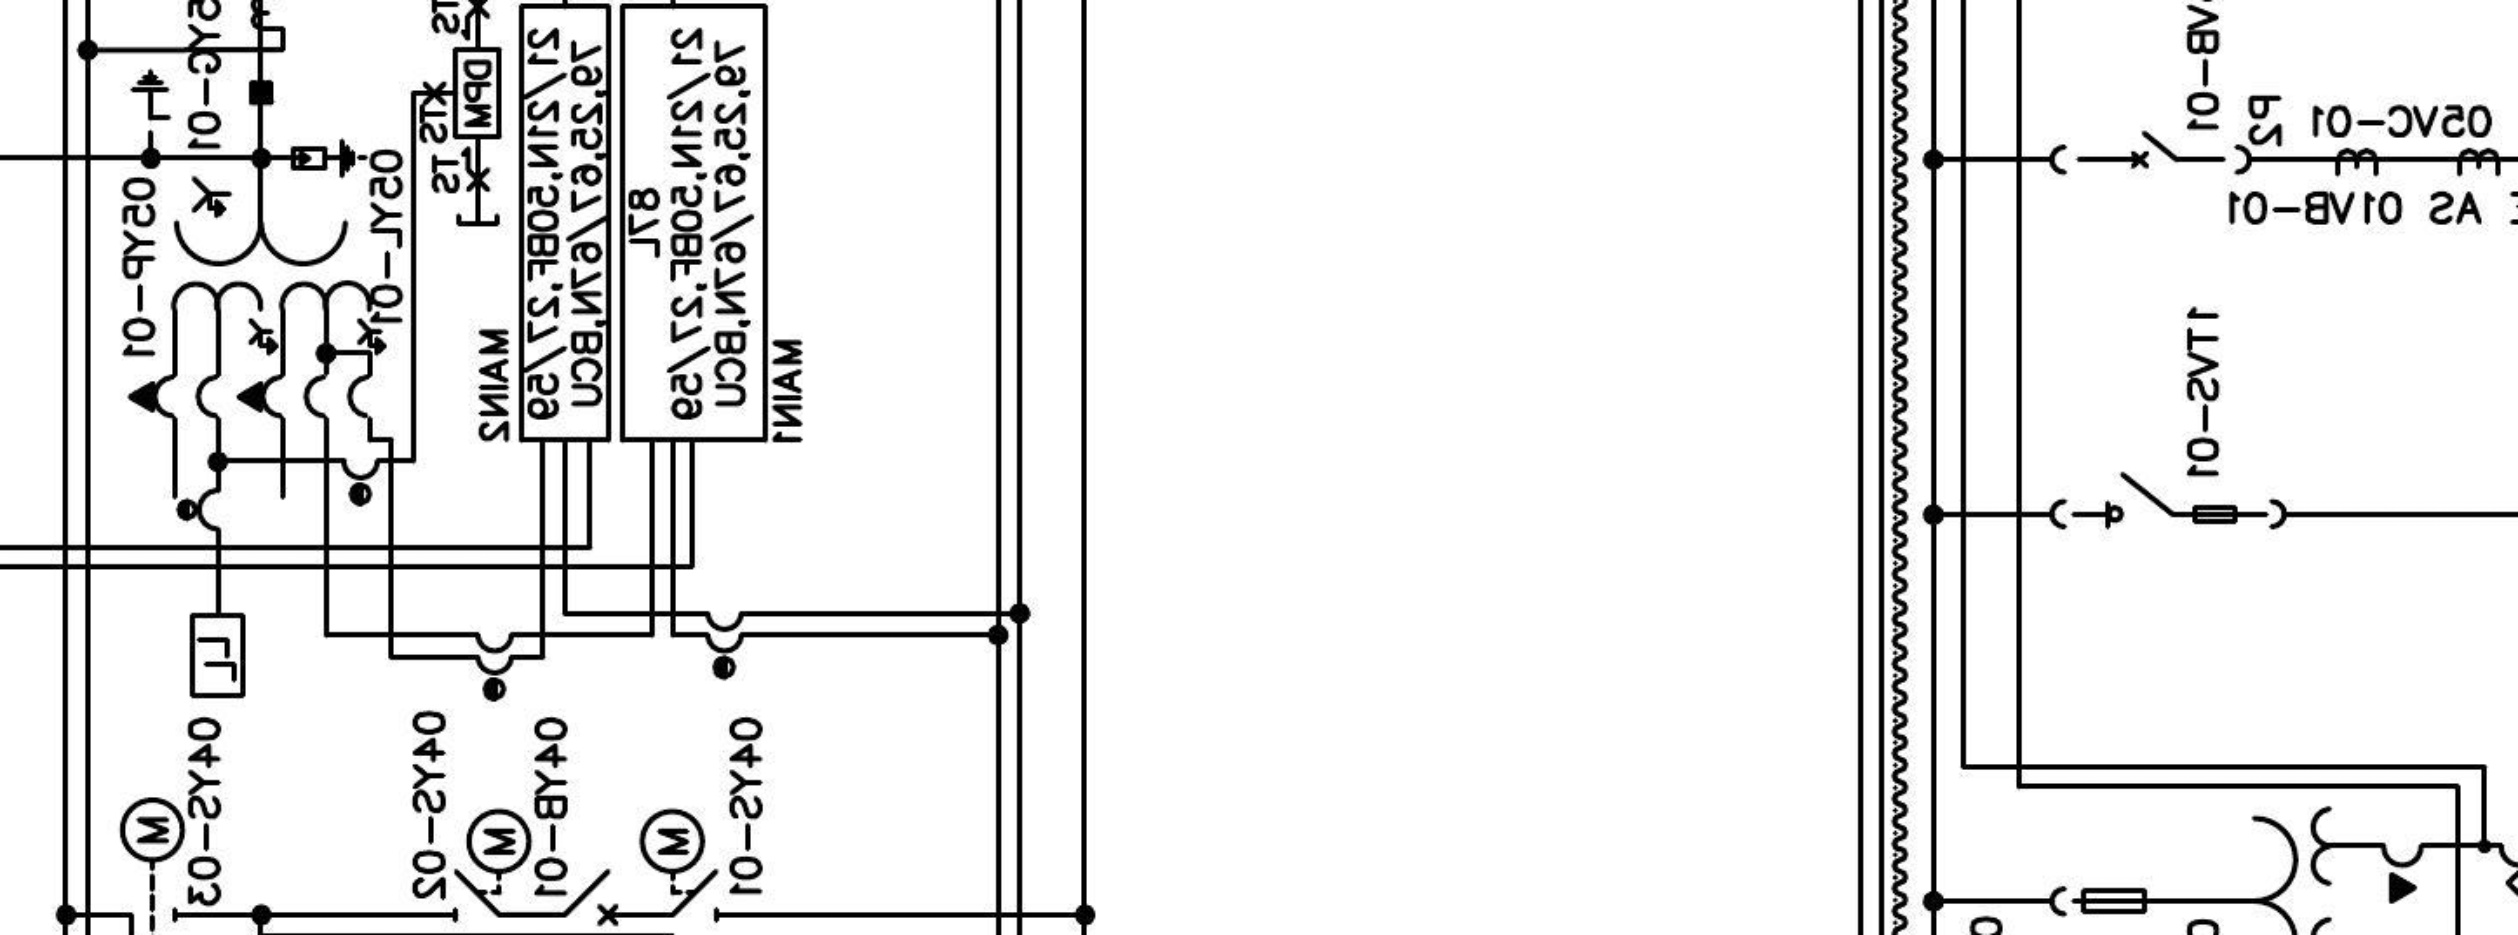115_1way_ds_w_motor: (639, 806, 721, 924), (452, 806, 533, 923)
115_breaker: (564, 868, 620, 927)
115_gs: (128, 66, 173, 137)
115_la: (290, 136, 370, 179)
115_vt_3p: (126, 174, 388, 420)
22_breaker: (2048, 130, 2253, 176)
22_ds: (2048, 471, 2288, 530)
DPM: (453, 45, 503, 138)
LL: (189, 610, 246, 698)
